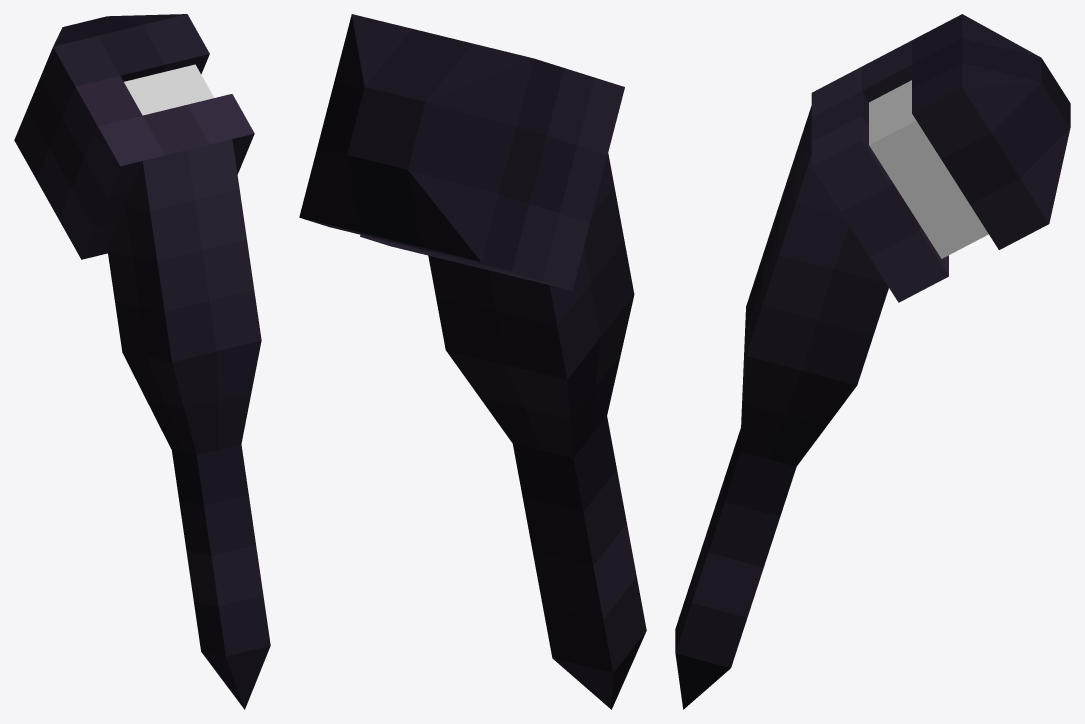
File: leg_ender_back_r.obj
3 renders of one model, left to right at view 1: azimuth 30°, elevation 25°; view 2: azimuth 150°, elevation 25°; view 3: azimuth 270°, elevation 25°, orthographic. The views are drawn at different scales.
Parts seen in each view (by area): view 1: LEG_ENDER_RIGHTBACK.OBSVAR_Cube.383; view 2: LEG_ENDER_RIGHTBACK.OBSVAR_Cube.383; view 3: LEG_ENDER_RIGHTBACK.OBSVAR_Cube.383.
Part boxes in pixels (bbox=[...]): LEG_ENDER_RIGHTBACK.OBSVAR_Cube.383: bbox=[14, 14, 270, 709]; LEG_ENDER_RIGHTBACK.OBSVAR_Cube.383: bbox=[299, 14, 646, 709]; LEG_ENDER_RIGHTBACK.OBSVAR_Cube.383: bbox=[675, 14, 1070, 709].
Bounding box in the file's own units: 0.1875 × 0.784 × 0.4258.
